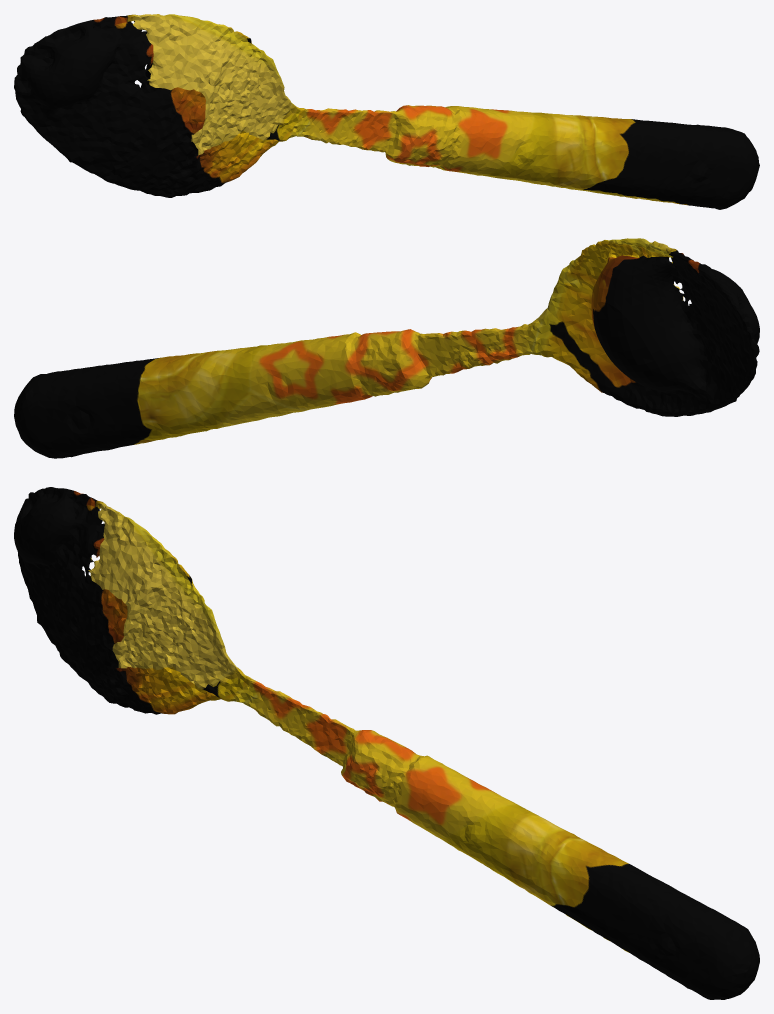
3 renders of one model, top to bottom at view 1: azimuth 30°, elevation 25°; view 2: azimuth 150°, elevation 25°; view 3: azimuth 330°, elevation 25°, orthographic. The views are drawn at different scales.
Parts seen in each view (by area): view 1: node; view 2: node; view 3: node.
Part boxes in pixels (box(x1,y1,x2,y2)): node: box(14, 14, 759, 209); node: box(14, 238, 759, 458); node: box(14, 487, 759, 999).
Size of the model in its own units: 0.186 by 0.0829 by 0.0209.
